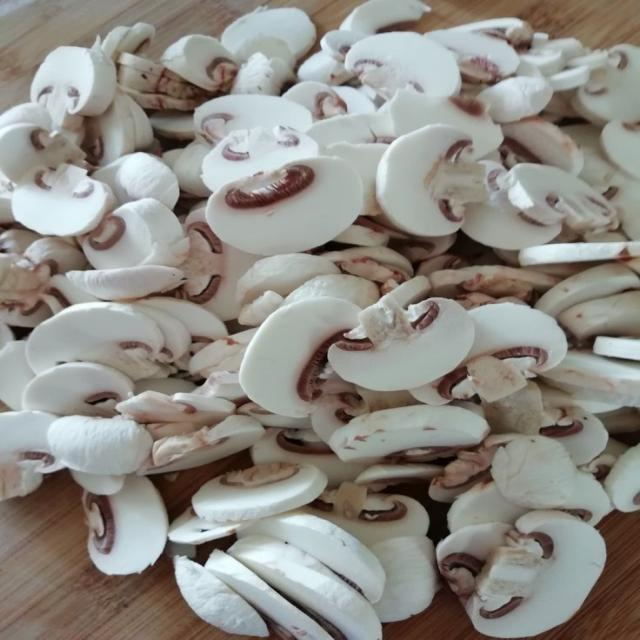champignon mushrooms: (464, 511, 606, 638), (229, 535, 381, 639), (410, 303, 566, 403), (207, 157, 363, 255), (240, 298, 360, 416), (328, 298, 473, 390), (238, 512, 385, 602), (377, 124, 487, 236), (205, 550, 334, 639), (27, 303, 164, 380), (329, 406, 488, 462), (179, 209, 258, 320), (82, 475, 167, 574), (387, 90, 503, 158), (303, 484, 429, 546), (201, 126, 319, 192), (193, 463, 326, 521), (345, 32, 460, 99), (82, 198, 189, 269), (506, 164, 617, 232), (174, 556, 268, 636), (140, 415, 264, 474), (12, 164, 113, 236), (31, 47, 116, 130), (251, 428, 365, 486), (48, 415, 153, 474), (491, 436, 576, 508), (194, 95, 313, 146), (22, 363, 133, 417), (371, 537, 439, 622), (0, 412, 64, 500), (535, 263, 639, 317), (542, 350, 639, 406), (236, 254, 339, 305), (425, 30, 520, 84), (0, 124, 85, 182), (93, 153, 179, 208), (221, 8, 315, 58), (160, 35, 237, 93), (447, 480, 529, 533), (116, 391, 234, 426), (67, 265, 183, 300), (558, 291, 639, 341), (479, 76, 553, 122), (340, 0, 430, 34), (168, 508, 253, 544), (0, 336, 34, 411), (354, 463, 442, 491), (604, 445, 639, 512), (70, 470, 126, 495), (594, 336, 639, 360)
